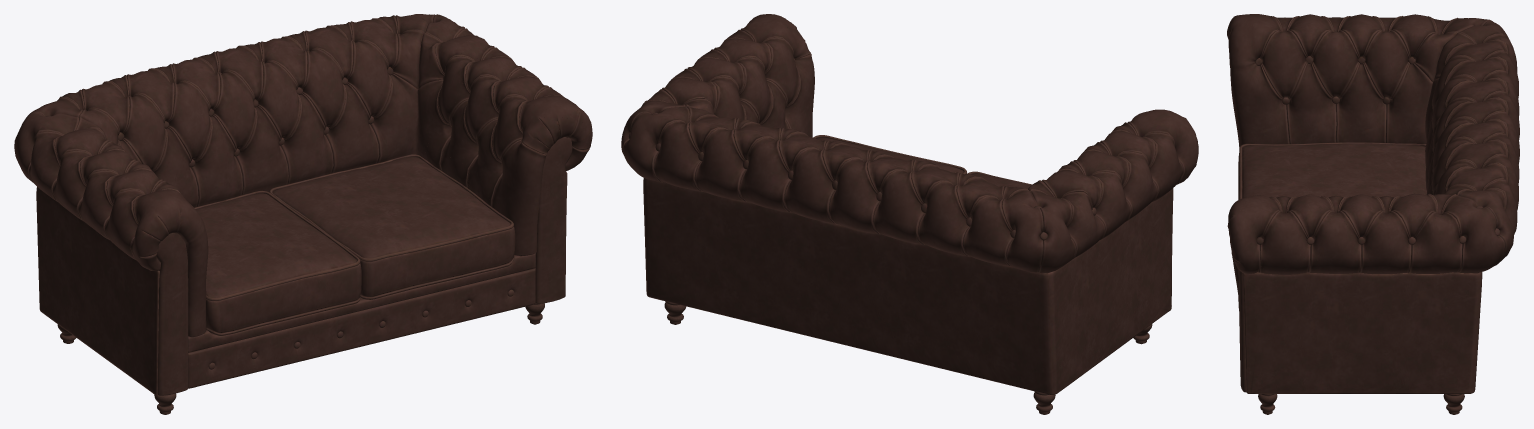
File: ChesterfieldSofa.glb
3 renders of one model, left to right at view 1: azimuth 30°, elevation 25°; view 2: azimuth 150°, elevation 25°; view 3: azimuth 270°, elevation 25°, orthographic. The views are drawn at different scales.
Visible parts, largest first — view 1: sofa_geo, sofa_geo_Leather_mat_0.001, legs_geo4; view 2: sofa_geo, sofa_geo_Leather_mat_0.001, legs_geo4; view 3: sofa_geo, sofa_geo_Leather_mat_0.001, legs_geo4.
Boxes of the visible parts, x1,y1,x2,y2 form: sofa_geo: [14, 14, 584, 395]; sofa_geo_Leather_mat_0.001: [188, 14, 592, 388]; legs_geo4: [57, 303, 544, 414]; sofa_geo: [621, 14, 1198, 394]; sofa_geo_Leather_mat_0.001: [629, 17, 809, 133]; legs_geo4: [664, 301, 1152, 414]; sofa_geo: [1227, 14, 1519, 393]; sofa_geo_Leather_mat_0.001: [1227, 190, 1504, 274]; legs_geo4: [1258, 394, 1464, 414].
Bounding box in the file's own units: 4.14 × 2.01 × 2.39.
Materials: 2 (2 with a texture image).
